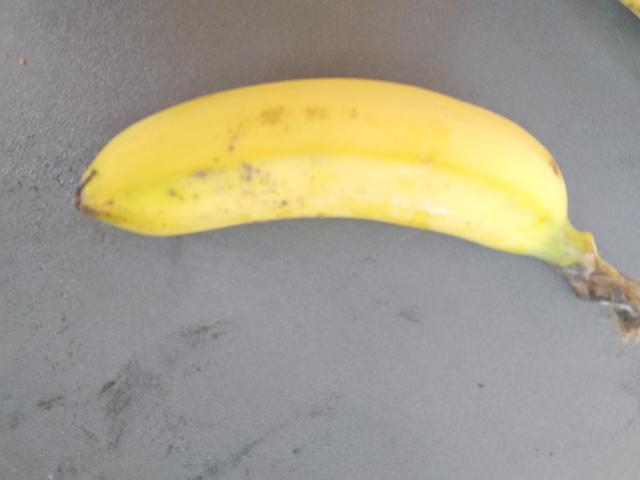ripe: (66, 54, 590, 291)
